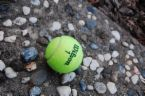tennis ball: (43, 36, 85, 74)
